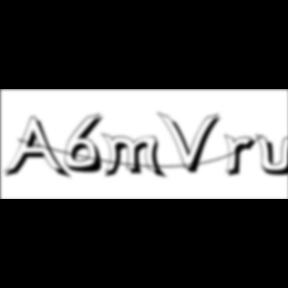6: (66, 112, 110, 176)
A: (3, 116, 72, 182)
V: (158, 110, 224, 176)
m: (101, 132, 169, 181)
r: (224, 134, 262, 180)
